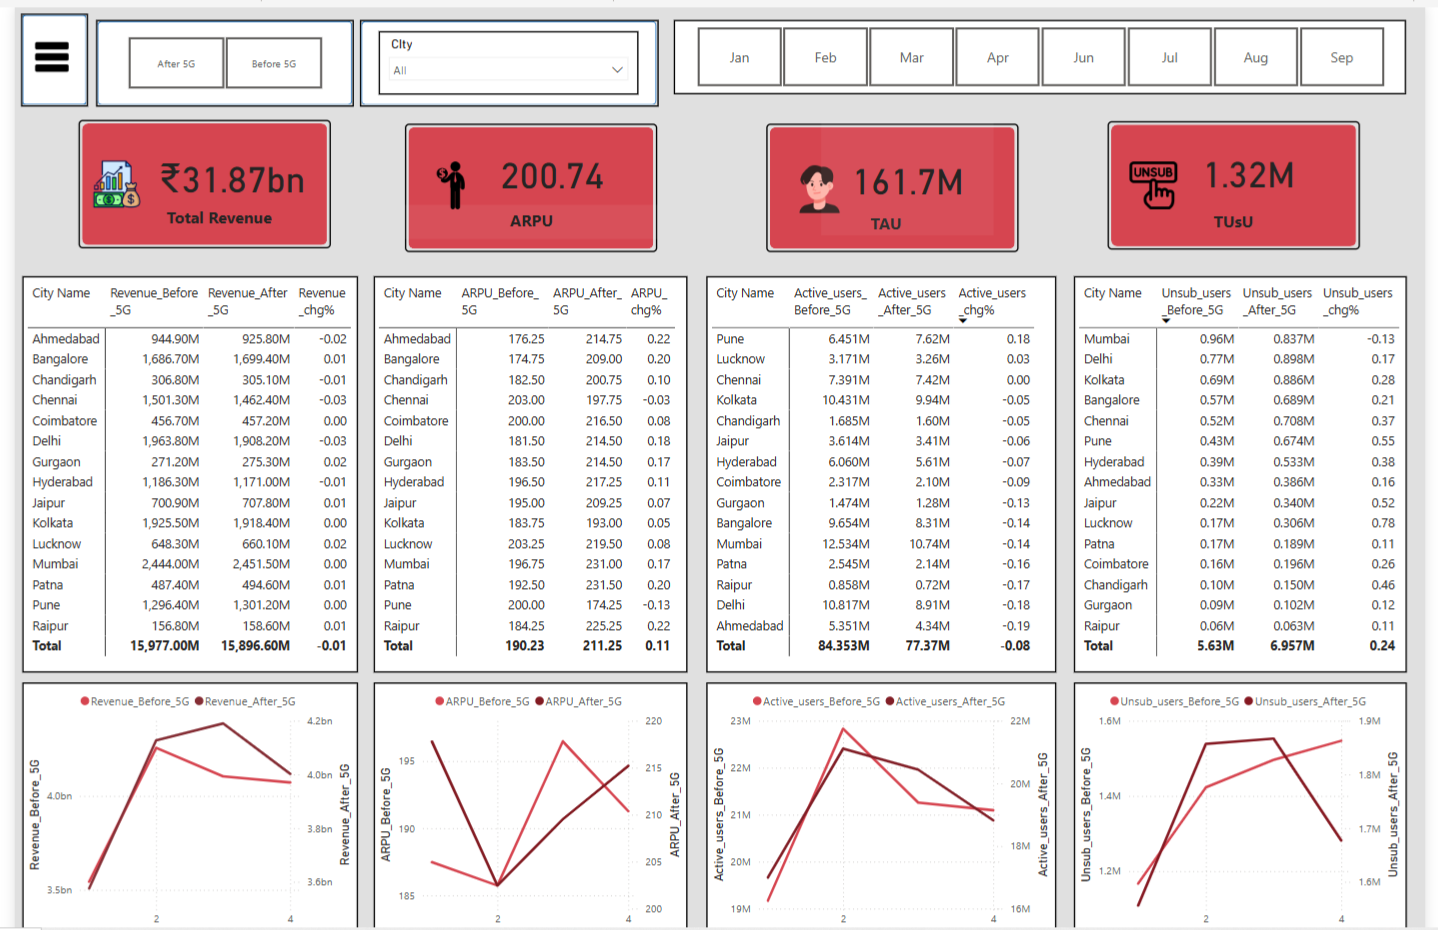

The page's visual inventory and layout, read from the dashboard file:
{"tool":"powerbi","page":{"name":"Revenue Page","canvas":[1650,1100],"ordinal":1},"visuals":[{"type":"shape","box":[7.2,7.2,78.8,109],"z":0},{"type":"shape","box":[403.8,14.6,349.2,101.8],"z":1000},{"type":"shape","box":[74.7,131.6,295,150.5],"z":2000},{"type":"shape","box":[879.1,136.7,295,150.5],"z":3000},{"type":"shape","box":[1278.5,132.7,295,150.5],"z":4000},{"type":"shape","box":[456.6,135.7,295,150.5],"z":5000},{"type":"textbox","box":[172.8,228.4,156.4,54.6],"z":6000},{"type":"image","box":[65.5,173.9,107.5,66.1],"z":7000},{"type":"card","fields":{"Values":["Key Measures.Total_Revenue"]},"box":[134.6,123,240.1,149.1],"z":8000},{"type":"textbox","box":[456.7,231.6,296,39.7],"z":9000},{"type":"card","fields":{"Values":["Key Measures.ARPU"]},"box":[474,117.1,309.2,151],"z":10000},{"type":"image","box":[888.6,179.7,107.5,66.1],"z":11000},{"type":"textbox","box":[996.1,235.9,57.9,39.7],"z":12000},{"type":"image","box":[456.7,175.3,107.5,66.1],"z":13000},{"type":"card","fields":{"Values":["Key Measures.Total_Active_Users"]},"box":[943.2,133.4,201.7,133.9],"z":14000},{"type":"textbox","box":[1279.1,231.9,294.3,36.4],"z":15000},{"type":"card","fields":{"Values":["Key Measures.Unsub_users_chg"]},"box":[1296.4,116.8,294.6,149.1],"z":16000},{"type":"image","box":[1279.1,175.7,107.5,66.1],"z":17000},{"type":"pivotTable","fields":{"Rows":["City_Name.City Name"],"Values":["Key Measures.Revenue_Before_5G","Key Measures.Revenue_After_5G","Key Measures.Revenue_chg%"]},"box":[9.1,314.6,392.9,463.8],"z":18000},{"type":"pivotTable","fields":{"Rows":["City_Name.City Name"],"Values":["Key Measures.ARPU_Before_5G","Key Measures.ARPU_After_5G","Key Measures.ARPU_chg%"]},"box":[420.1,314.6,367.4,463.8],"z":19000},{"type":"pivotTable","fields":{"Rows":["City_Name.City Name"],"Values":["Key Measures.Active_users_Before_5G","Key Measures.Active_users_After_5G","Key Measures.Active_users_chg%"]},"box":[809.4,314.6,409.2,463.8],"z":20000},{"type":"pivotTable","fields":{"Rows":["City_Name.City Name"],"Values":["Key Measures.Unsub_users_Before_5G","Key Measures.Unsub_users_After_5G","Key Measures.Unsub_users_chg%"]},"box":[1238.6,314.6,389.2,463.8],"z":21000},{"type":"lineChart","fields":{"Category":["Dim_date.time_period"],"Y":["Key Measures.Revenue_Before_5G"],"Y2":["Key Measures.Revenue_After_5G"]},"box":[9.1,789.4,392.9,311],"z":22000},{"type":"lineChart","fields":{"Category":["Dim_date.time_period"],"Y":["Key Measures.ARPU_Before_5G"],"Y2":["Key Measures.ARPU_After_5G"]},"box":[420.1,789.4,367.4,311],"z":23000},{"type":"lineChart","fields":{"Category":["Dim_date.time_period"],"Y":["Key Measures.Active_users_Before_5G"],"Y2":["Key Measures.Active_users_After_5G"]},"box":[809.4,789.4,409.2,311],"z":24000},{"type":"lineChart","fields":{"Category":["Dim_date.time_period"],"Y2":["Key Measures.Unsub_users_After_5G"],"Y":["Key Measures.Unsub_users_Before_5G"]},"box":[1238.6,789.4,389.2,311],"z":25000},{"type":"slicer","fields":{"Values":["City_Name.City Name"]},"box":[425.6,27.3,303.7,74.6],"z":26000},{"type":"shape","box":[94.6,14.6,301.9,101.8],"z":27000},{"type":"slicer","fields":{"Values":["Dim_date.before/after_5g"]},"box":[107.3,27.3,276.5,74.6],"z":28000},{"type":"slicer","fields":{"Values":["Dim_date.month_name"]},"box":[771.2,14.6,856.6,87.3],"z":29000},{"type":"image","box":[18.6,24.4,48.7,65.9],"z":30000}]}

Visuals, with their boxes in screenshot pixels (x1, y1, x2, y2):
shape: box=[10, 6, 78, 100]
shape: box=[352, 13, 654, 100]
shape: box=[68, 114, 323, 244]
shape: box=[763, 118, 1017, 248]
shape: box=[1107, 115, 1362, 244]
shape: box=[398, 117, 653, 247]
textbox: box=[153, 197, 288, 244]
image: box=[60, 150, 153, 207]
card - Key Measures.Total_Revenue: box=[120, 106, 327, 235]
textbox: box=[398, 200, 653, 234]
card - Key Measures.ARPU: box=[413, 101, 680, 231]
image: box=[771, 155, 864, 212]
textbox: box=[864, 204, 914, 238]
image: box=[398, 151, 491, 208]
card - Key Measures.Total_Active_Users: box=[818, 115, 992, 231]
textbox: box=[1108, 200, 1362, 232]
card - Key Measures.Unsub_users_chg: box=[1123, 101, 1377, 230]
image: box=[1108, 152, 1201, 209]
pivotTable - City_Name.City Name x Key Measures.Revenue_Before_5G: box=[12, 272, 351, 672]
pivotTable - City_Name.City Name x Key Measures.ARPU_Before_5G: box=[366, 272, 684, 672]
pivotTable - City_Name.City Name x Key Measures.Active_users_Before_5G: box=[702, 272, 1056, 672]
pivotTable - City_Name.City Name x Key Measures.Unsub_users_Before_5G: box=[1073, 272, 1409, 672]
lineChart - Dim_date.time_period x Key Measures.Revenue_Before_5G: box=[12, 681, 351, 929]
lineChart - Dim_date.time_period x Key Measures.ARPU_Before_5G: box=[366, 681, 684, 929]
lineChart - Dim_date.time_period x Key Measures.Active_users_Before_5G: box=[702, 681, 1056, 929]
lineChart - Dim_date.time_period x Key Measures.Unsub_users_After_5G: box=[1073, 681, 1409, 929]
slicer - City_Name.City Name: box=[371, 24, 633, 88]
shape: box=[85, 13, 346, 100]
slicer - Dim_date.before/after_5g: box=[96, 24, 335, 88]
slicer - Dim_date.month_name: box=[669, 13, 1409, 88]
image: box=[20, 21, 62, 78]
